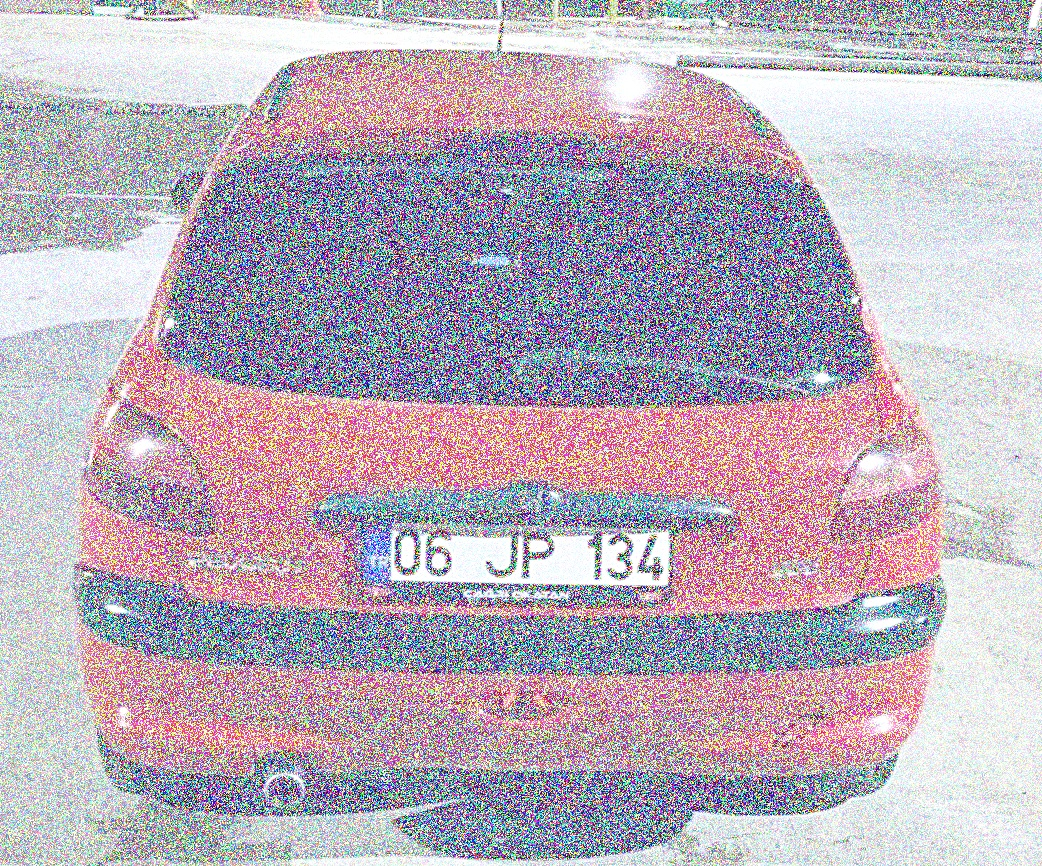plaka: (383, 507, 671, 583)
